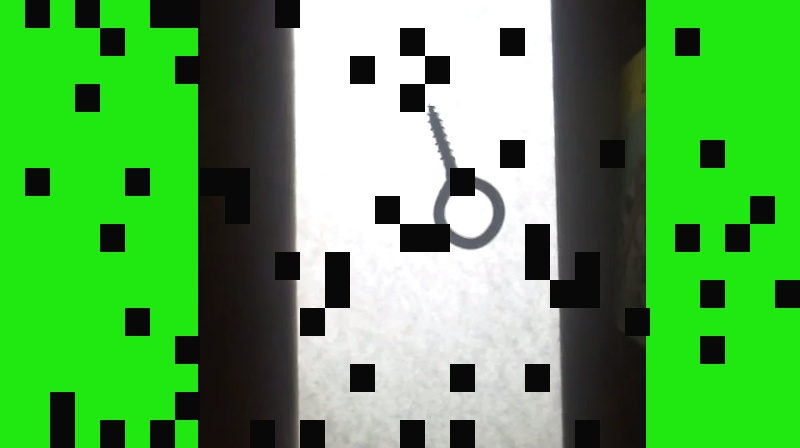O001: (422, 101, 507, 255)
